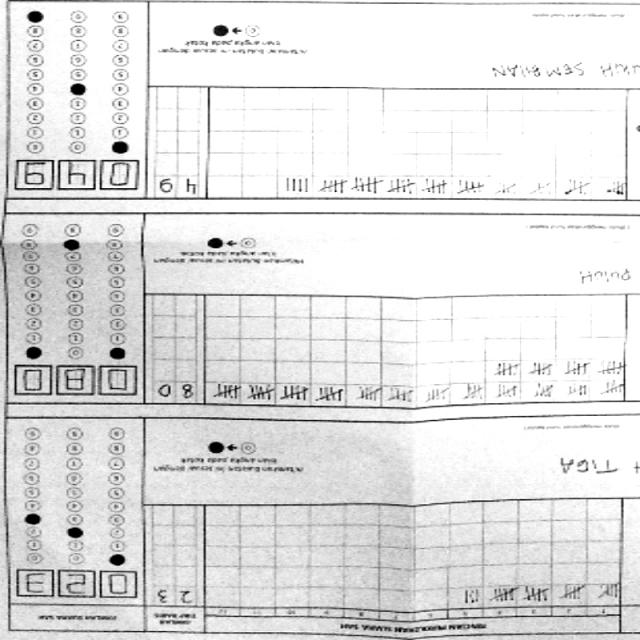Suara: (18, 157, 144, 198), (13, 362, 142, 402), (19, 567, 142, 598)
